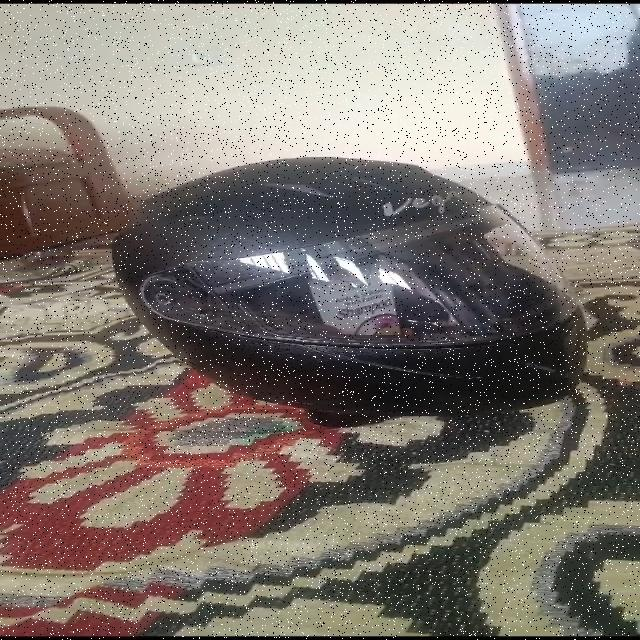Helmet: (115, 158, 585, 424)
